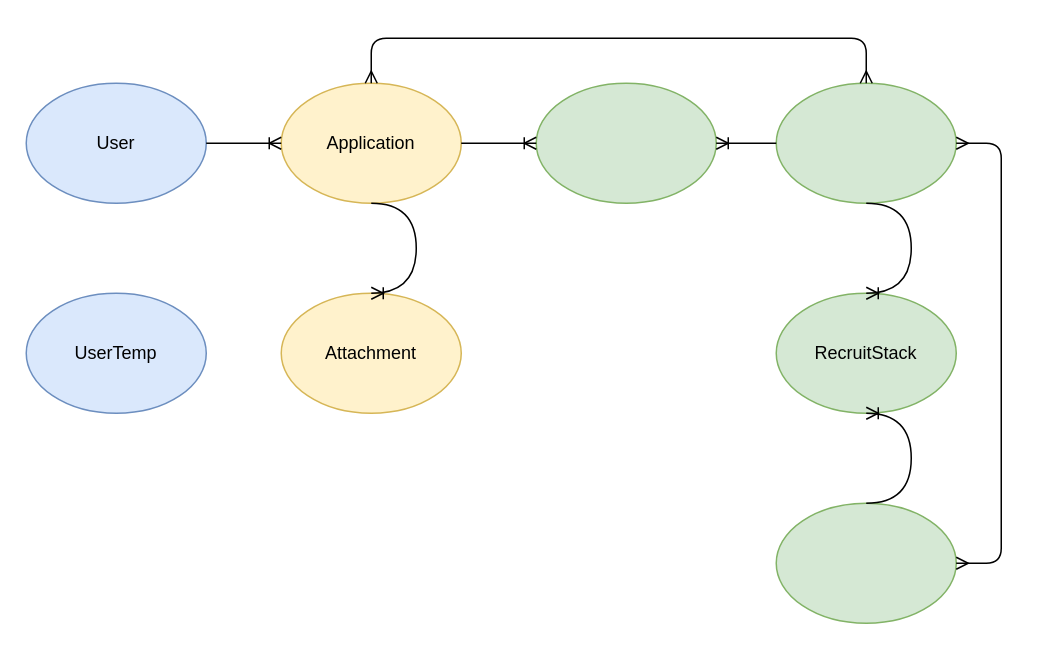
Image size: 1041x650. Some labels were removed from this diagram. The box of each missing label's shape, as (x1, y1, x2, y2) in pixels:
Recruit: (775, 82, 956, 203)
RecruitApplication: (535, 82, 716, 203)
Stack: (775, 502, 956, 623)
